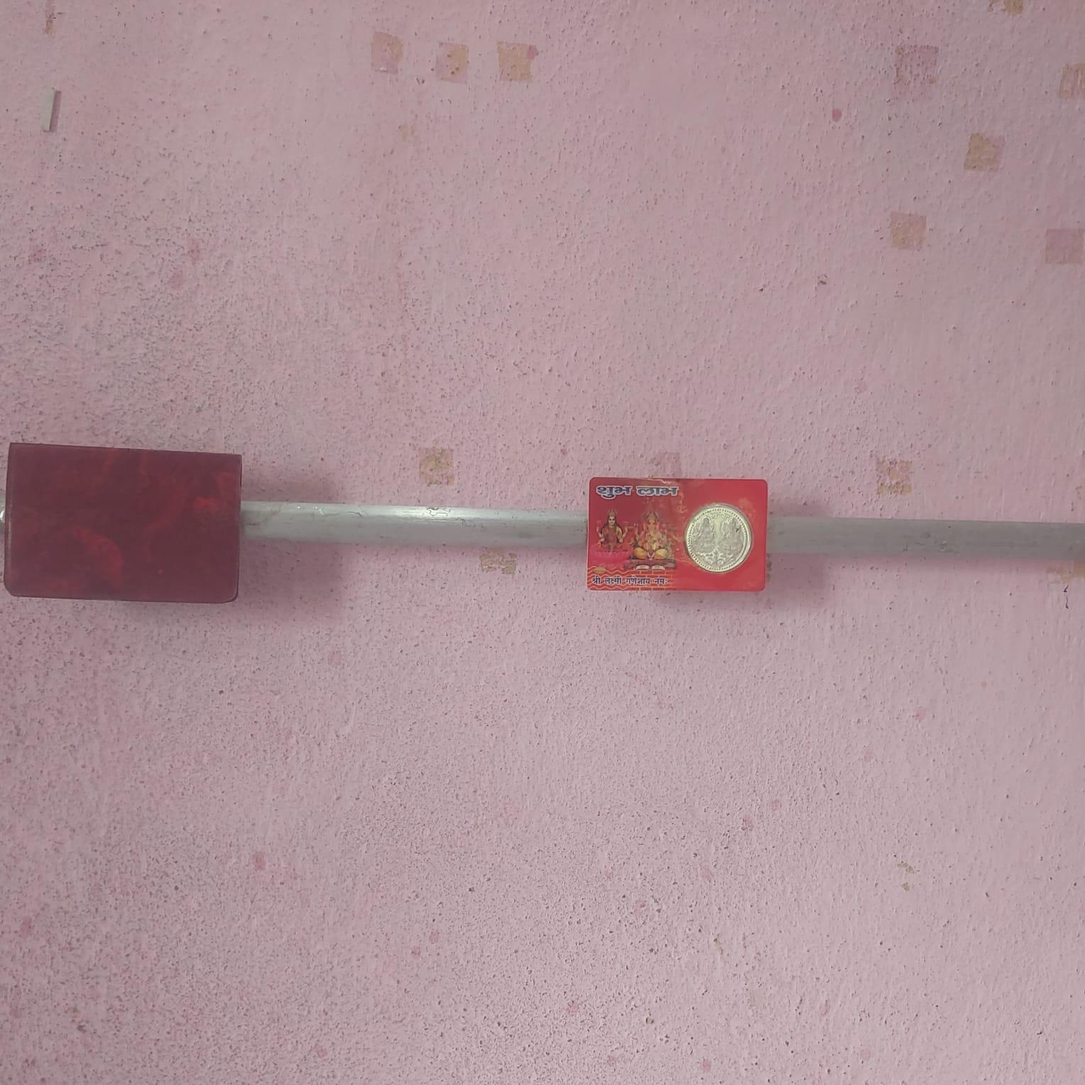blessing_card: (586, 473, 771, 595)
wallet: (0, 441, 244, 604)
